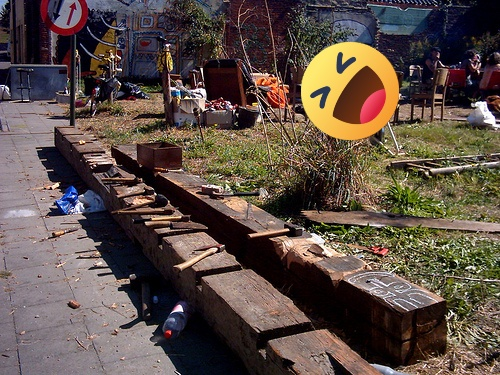haha: (301, 42, 399, 140)
